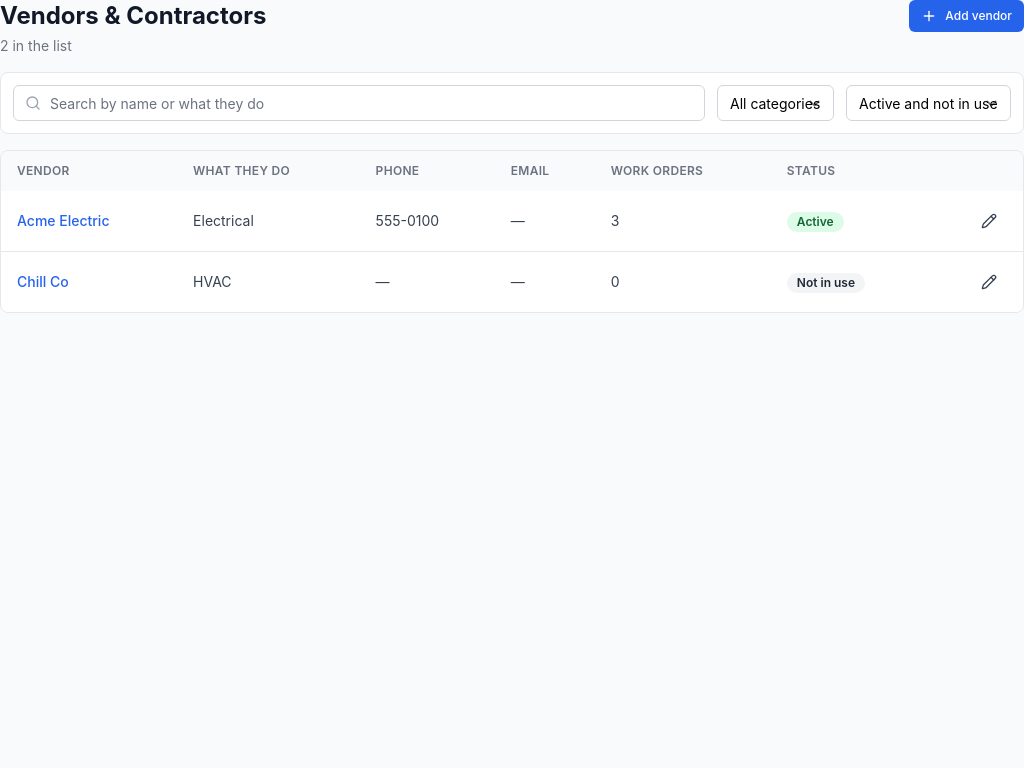
Test case: VendorsPage › asks for a name, and for a real email address
Click the button "Add vendor". click: (967, 16)
box: [909,0,1023,32]
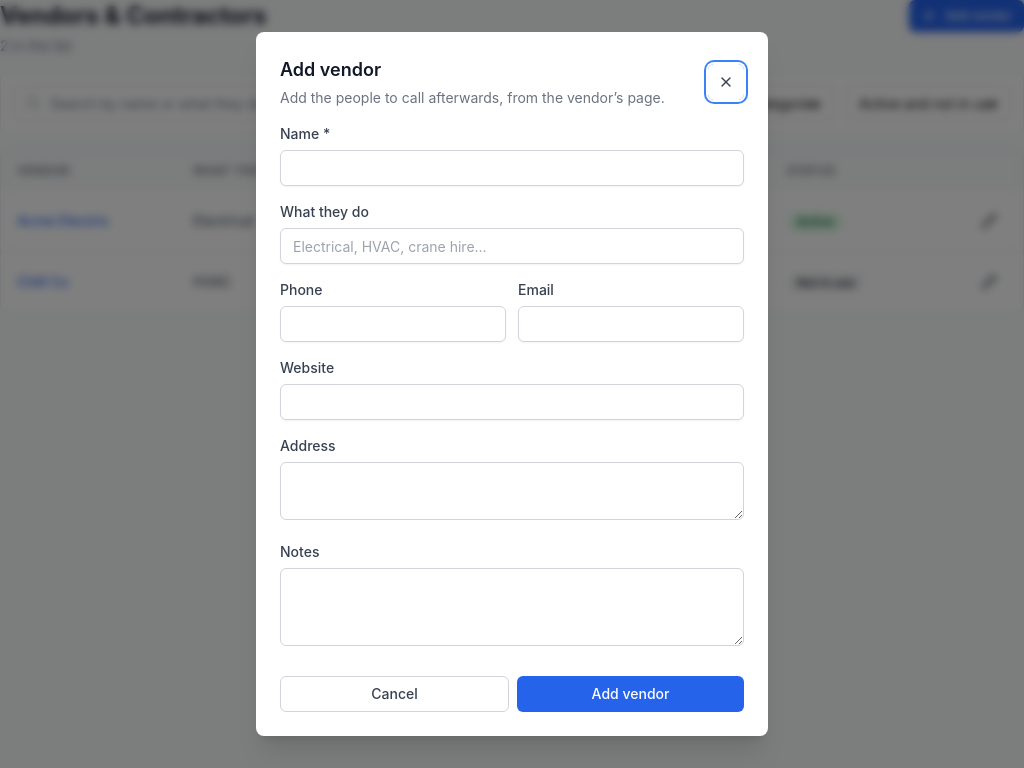
Type "nope" into the field labelled "Email". click: (631, 324)
box: [518,306,744,342]
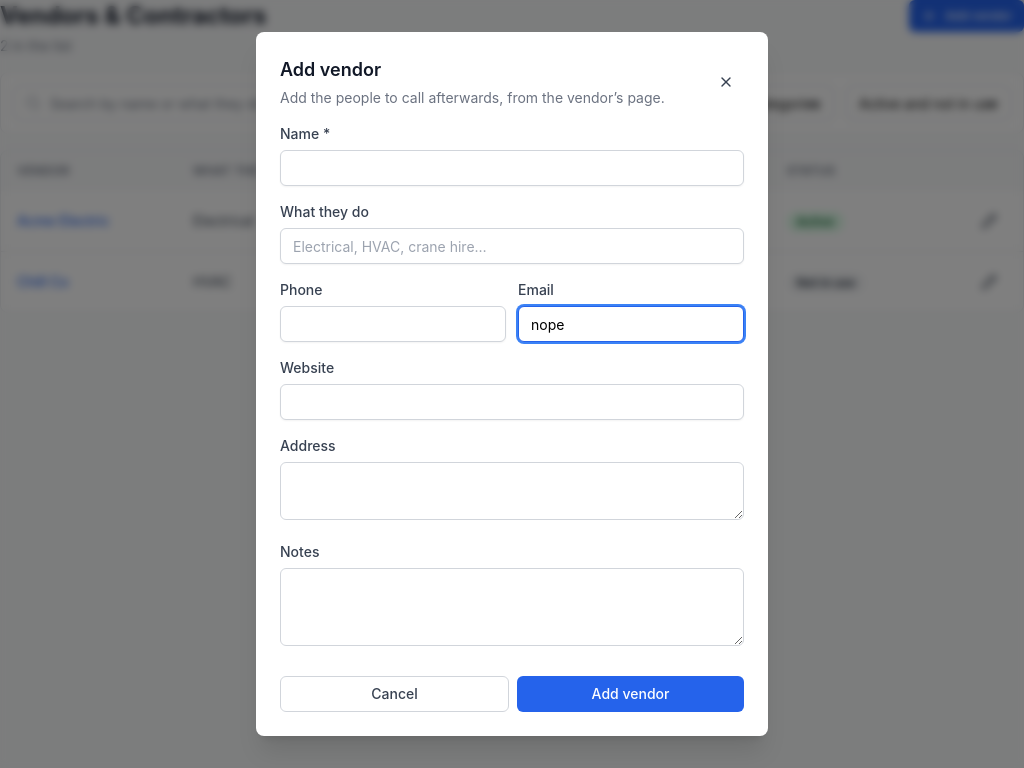
Click the button "Add vendor". click: (630, 694)
box: [517,676,744,712]
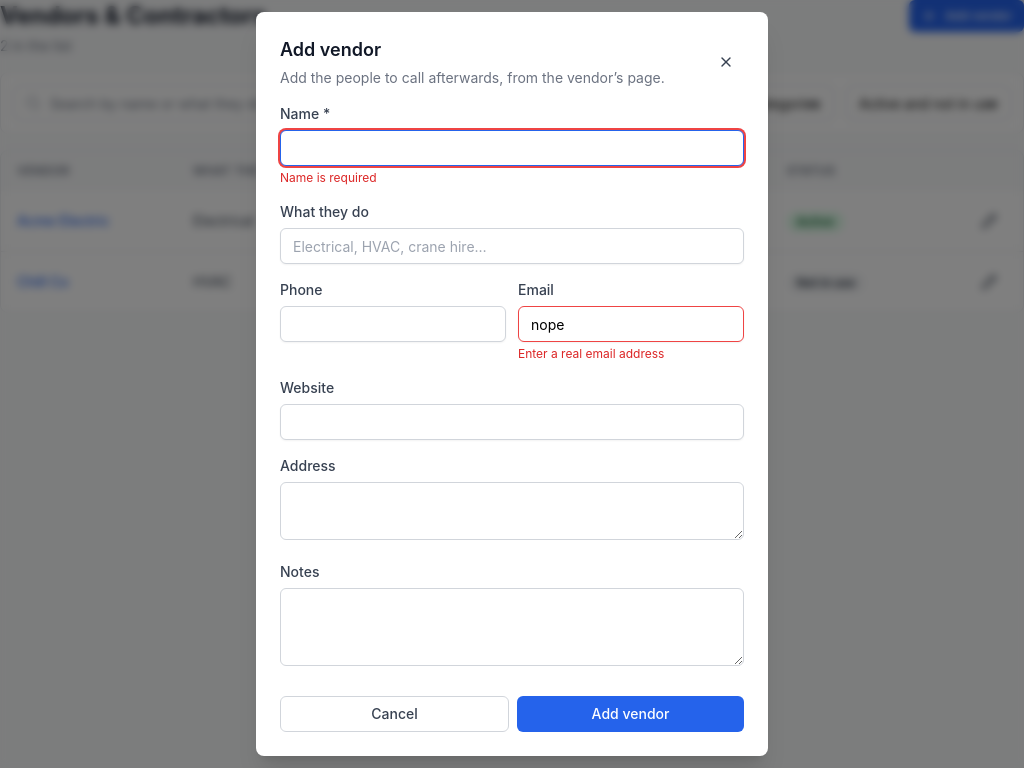
Expected: the text "Name is required" is shown, [280,170,377,185]
Expected: the text "Enter a real email address" is shown, [518,346,664,361]
